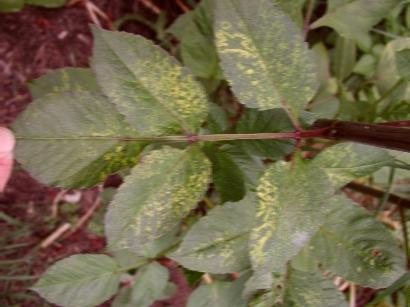Tomato leaf mosaic virus: (87, 23, 210, 137), (210, 3, 319, 121), (101, 143, 210, 254), (244, 144, 330, 279)
